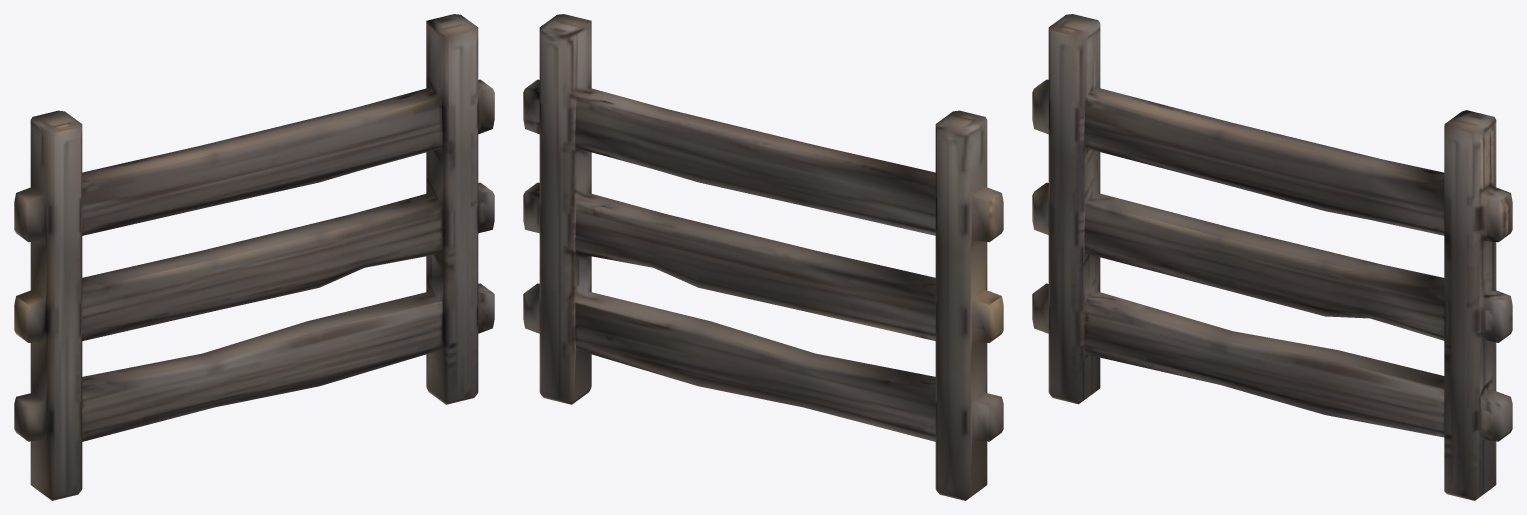
The model's file is Valla de madera corr.fbx.
The picture shows the model from 3 angles, left to right: view 1: azimuth 30°, elevation 25°; view 2: azimuth 150°, elevation 25°; view 3: azimuth 330°, elevation 25°; orthographic projection.
Visible parts, largest first — view 1: mesh_rep_0_ori_repair.001; view 2: mesh_rep_0_ori_repair.001; view 3: mesh_rep_0_ori_repair.001.
Part boxes in pixels (x1=…): mesh_rep_0_ori_repair.001: x1=14, y1=14, x2=494, y2=500; mesh_rep_0_ori_repair.001: x1=523, y1=14, x2=1003, y2=500; mesh_rep_0_ori_repair.001: x1=1032, y1=14, x2=1512, y2=500.
Bounding box in the file's own units: 787 × 588 × 64.11.
Materials: 1 (1 with a texture image).
